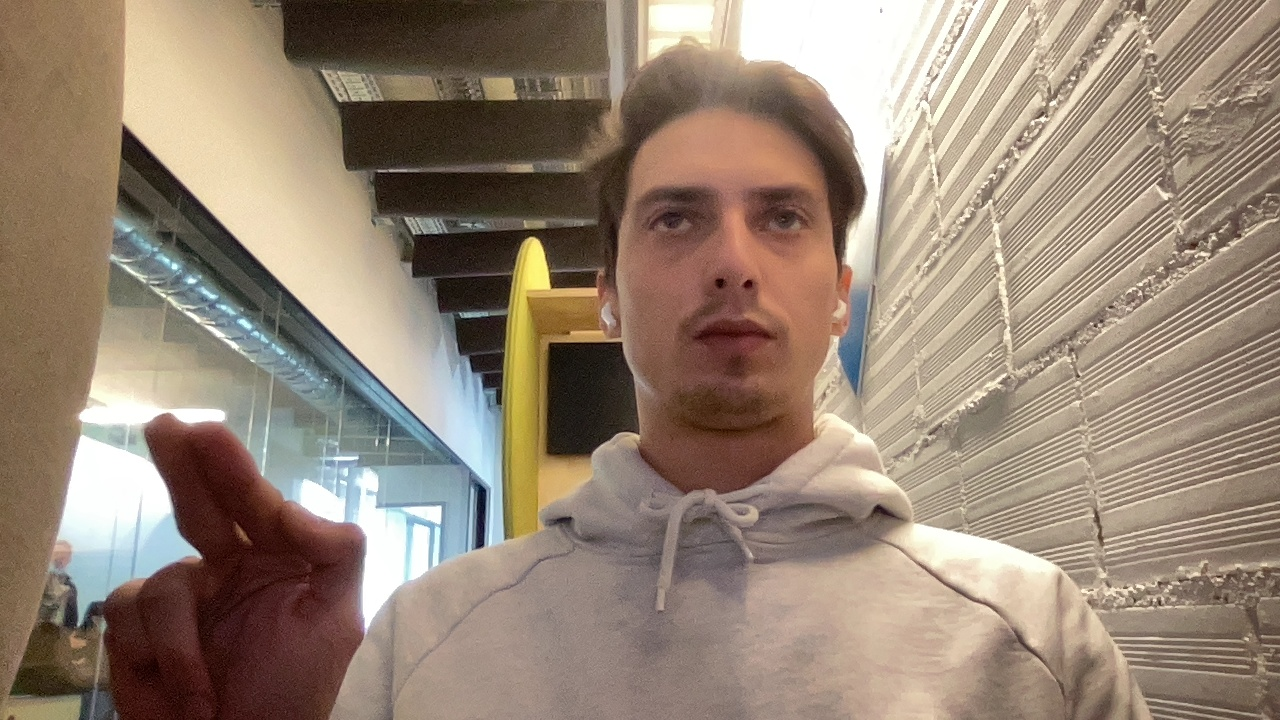no: (57, 395, 391, 713)
